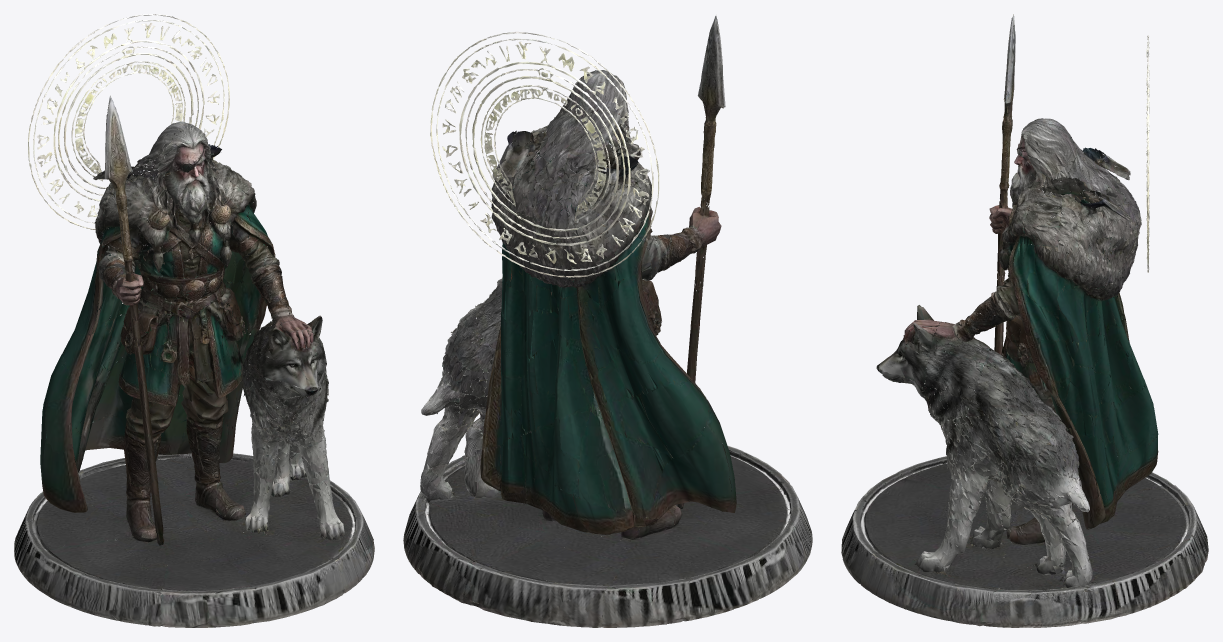
Rendered from odin.glb.
3 renders of one model, left to right at view 1: azimuth 30°, elevation 25°; view 2: azimuth 150°, elevation 25°; view 3: azimuth 270°, elevation 25°, orthographic. The views are drawn at different scales.
Parts seen in each view (by area): view 1: Odin; view 2: Odin; view 3: Odin.
Boxes of the visible parts, <box> form: Odin: <box>14,14,374,627</box>; Odin: <box>403,16,812,627</box>; Odin: <box>841,14,1208,627</box>.
Size of the model in its own units: 1.26 by 1.91 by 1.26.
1 material, 1 textured.
